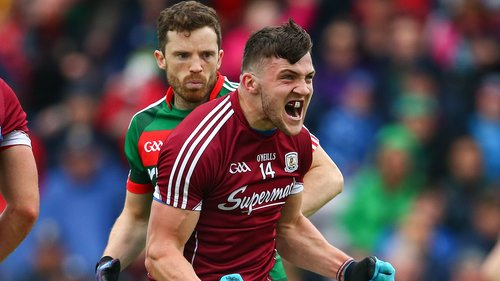player: (168, 15, 325, 263), (122, 3, 255, 200)
